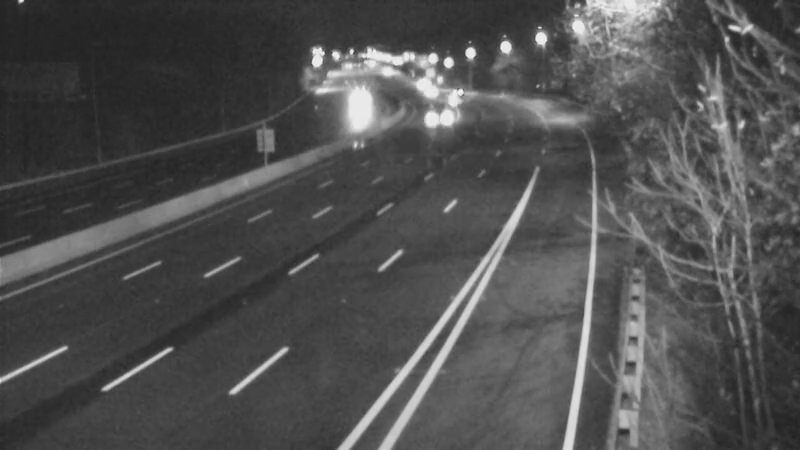vehicle: (394, 59, 444, 109), (404, 64, 454, 114), (430, 67, 480, 117), (411, 94, 461, 144), (332, 82, 382, 132)
